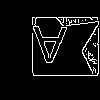A: (30, 26, 68, 73)
